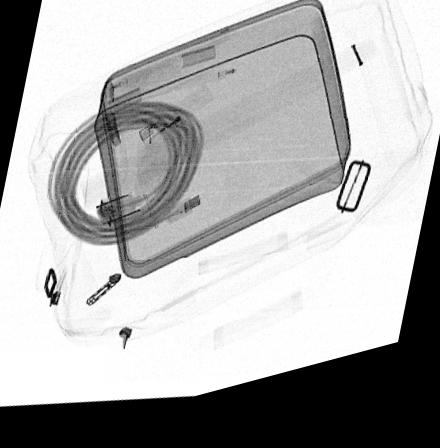Lighter: (137, 93, 212, 155)
